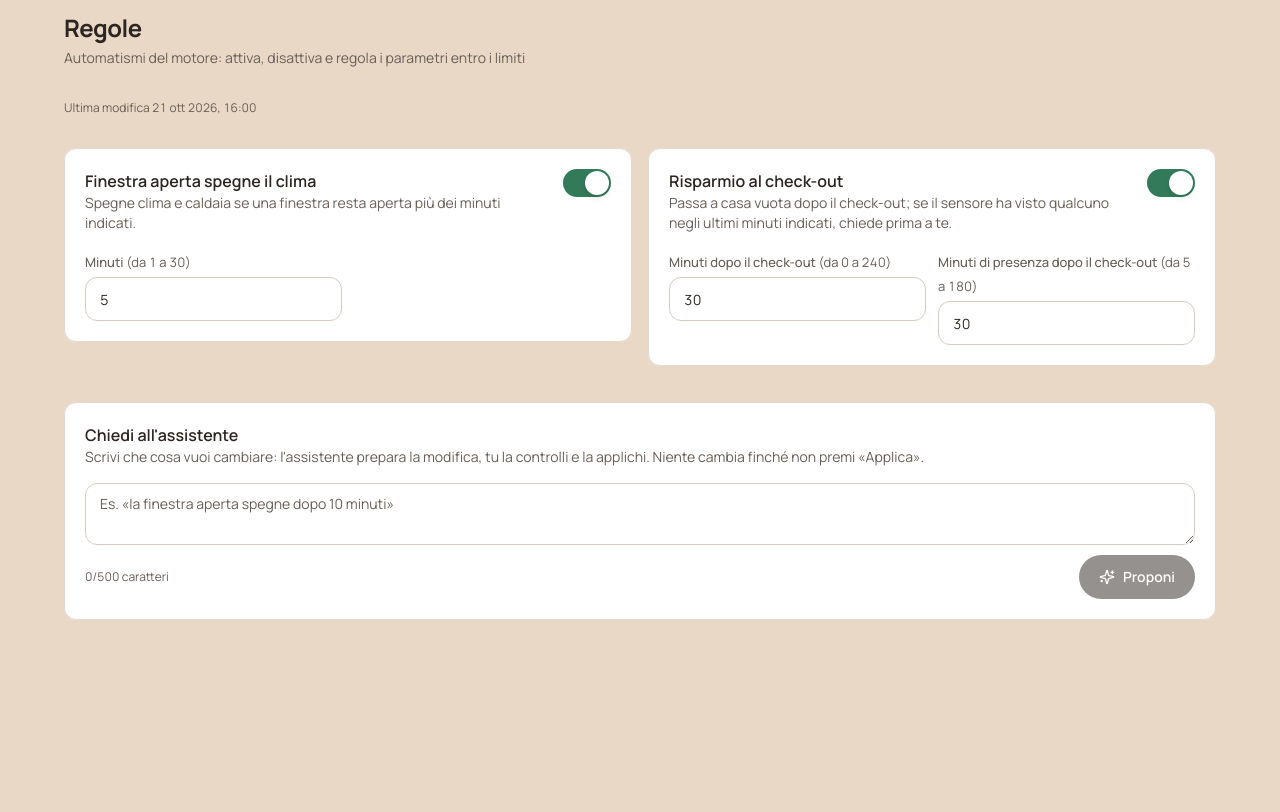
Test: Regole: «Chiedi all'assistente» (D-151) › la proposta: prima e dopo per ogni valore, con la frase dell'assistente; niente cambia prima di «Applica»
Expected: the element with test id "rule-card-window_open_off" is shown, [64, 148, 632, 342]
Step 1. Type "la finestra aperta spegne dopo 10 minuti" into the text box with test id "rule-proposal-text" → (640, 514), box [85, 483, 1195, 545]
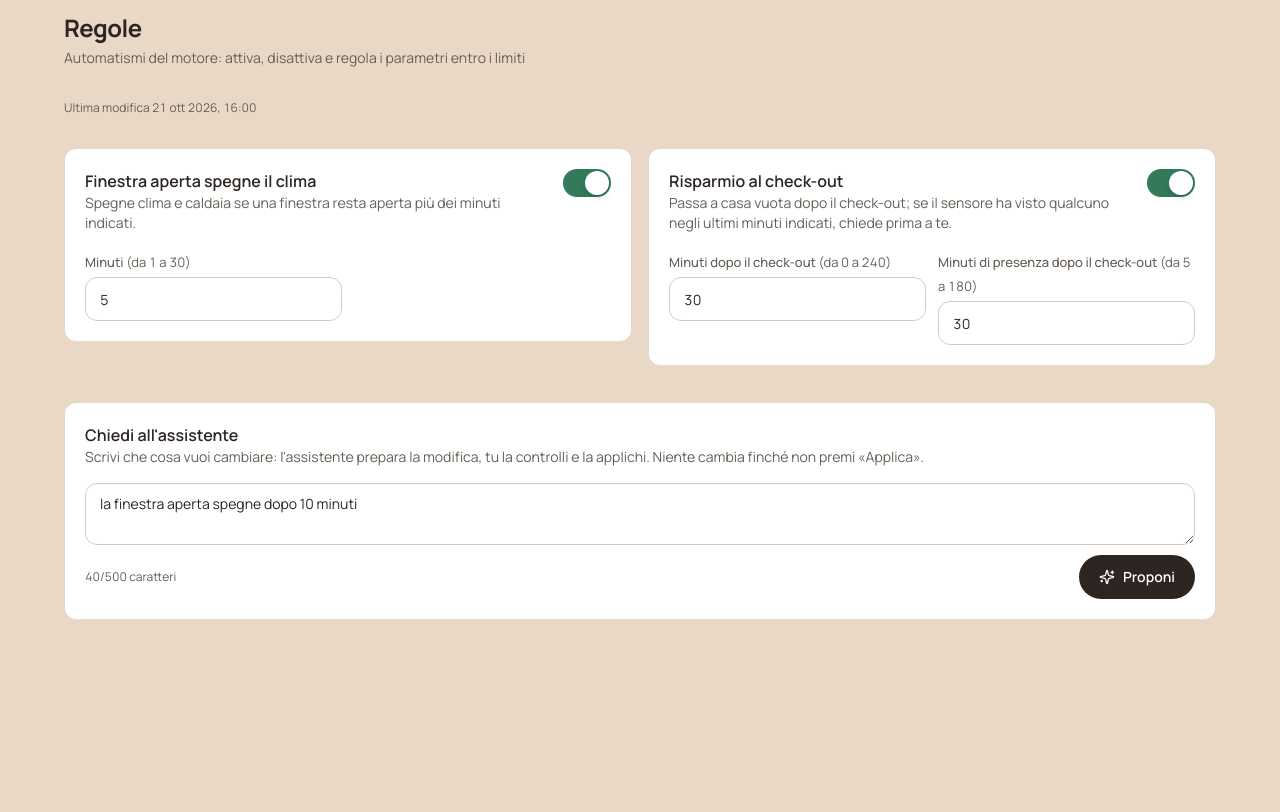
Step 2. Click the button with test id "rule-proposal-ask" → (1137, 577), box [1079, 555, 1195, 599]
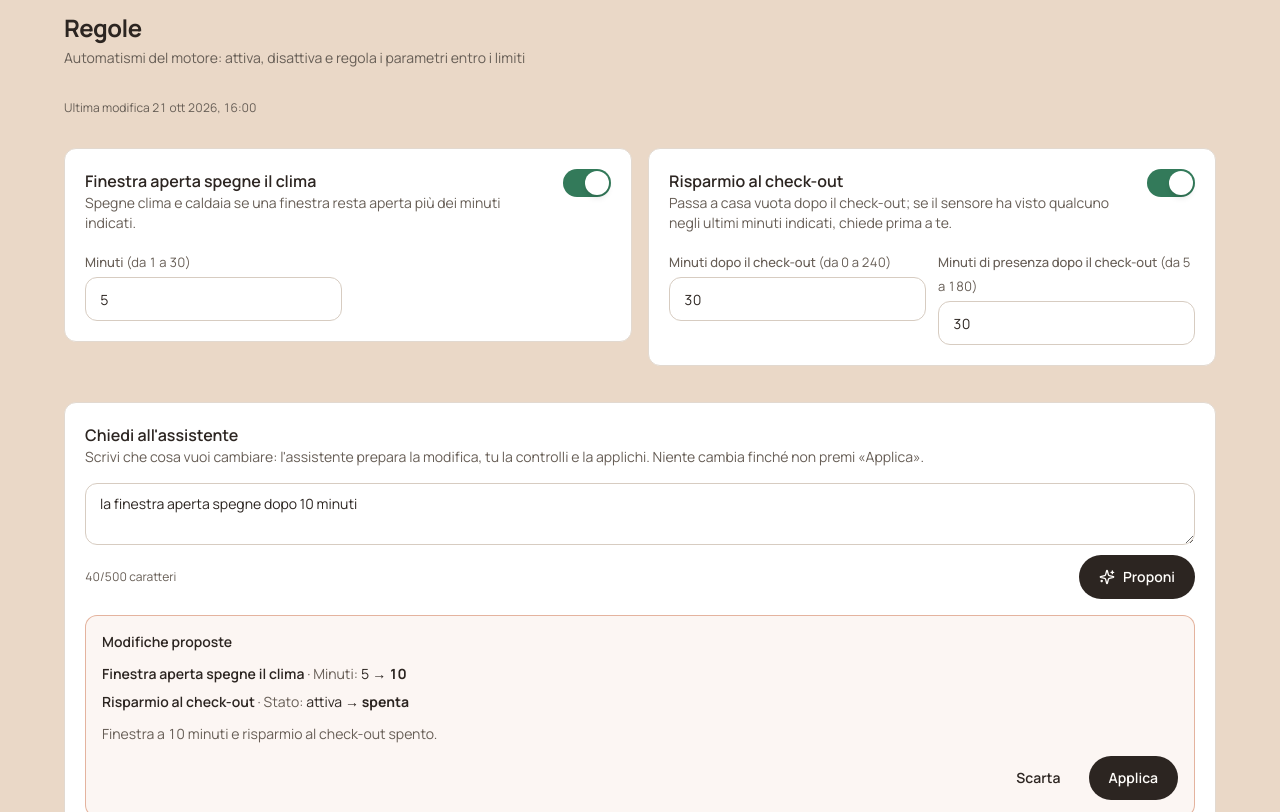
Now the list item with test id "rule-proposal-change-window_open_off-minutes" reads "Finestra aperta spegne il clima · Minuti: 5 → 10", box [102, 664, 406, 683]
Now the list item with test id "rule-proposal-change-checkout_eco-enabled" reads "Risparmio al check-out · Stato: attiva → spenta", box [102, 692, 409, 711]
Now the text with test id "rule-proposal-explanation" reads "Finestra a 10 minuti e risparmio al check-out spento.", box [102, 724, 437, 743]
